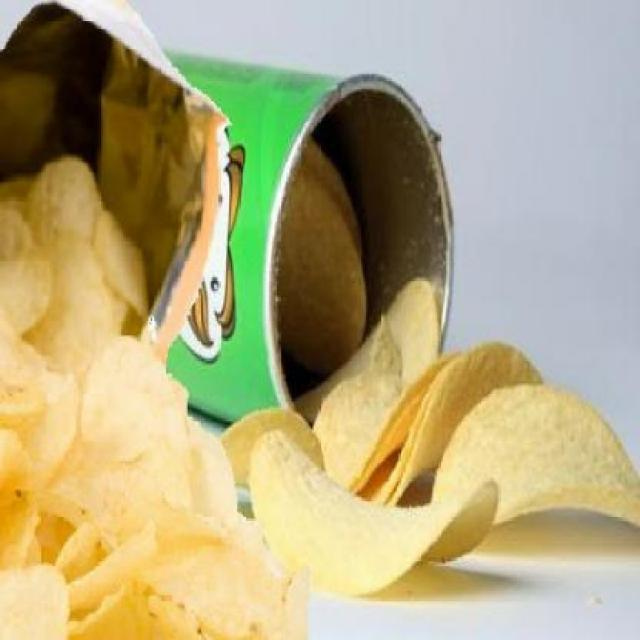Chips packaged: (2, 167, 284, 638), (326, 327, 639, 613)
